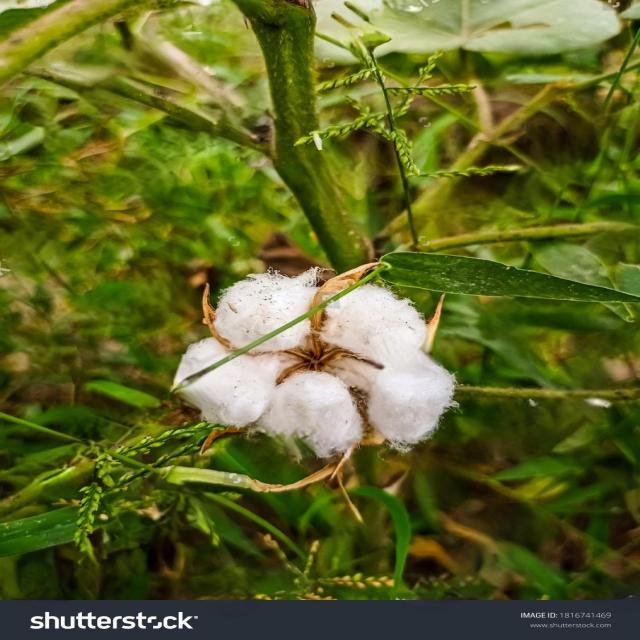Late_blight: (158, 252, 476, 472)
